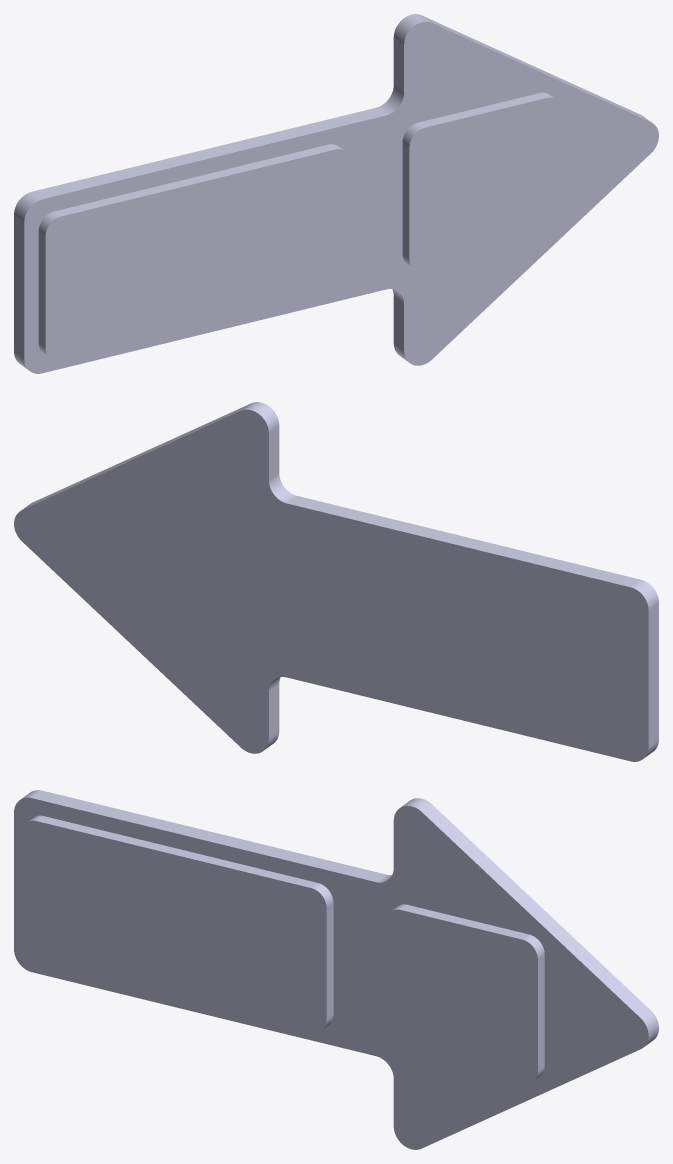
Rendered from arrow_imu_mount-boards.obj.
3 views of the same model, one above another, from view 1: azimuth 30°, elevation 25°; view 2: azimuth 150°, elevation 25°; view 3: azimuth 330°, elevation 25° (orthographic).
Parts seen in each view (by area): view 1: Boards; view 2: Boards; view 3: Boards.
Part boxes in pixels (x1,y1,x2,y2): Boards: (14, 14, 658, 373); Boards: (14, 402, 658, 761); Boards: (14, 790, 658, 1149).
Size of the model in its own units: 106 by 54.79 by 5.
